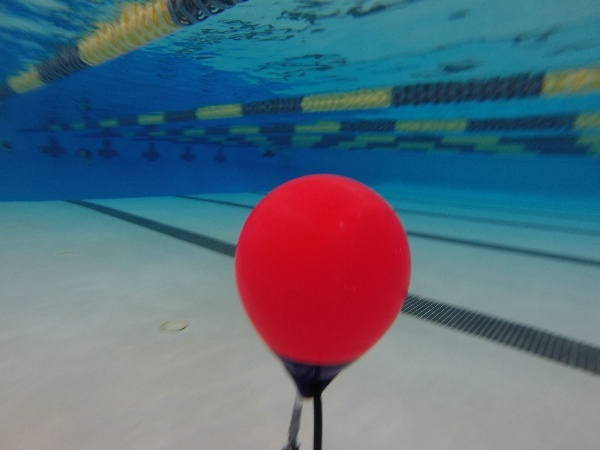buoy_red: (228, 168, 420, 401)
